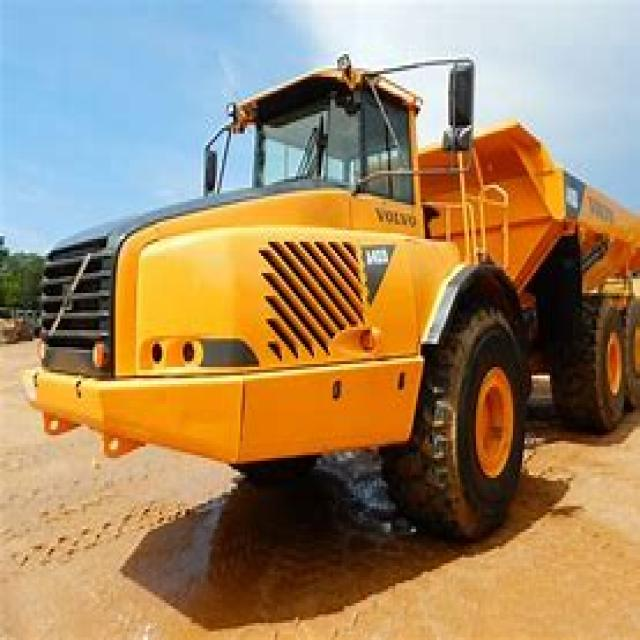dump_truck: (25, 31, 638, 549)
